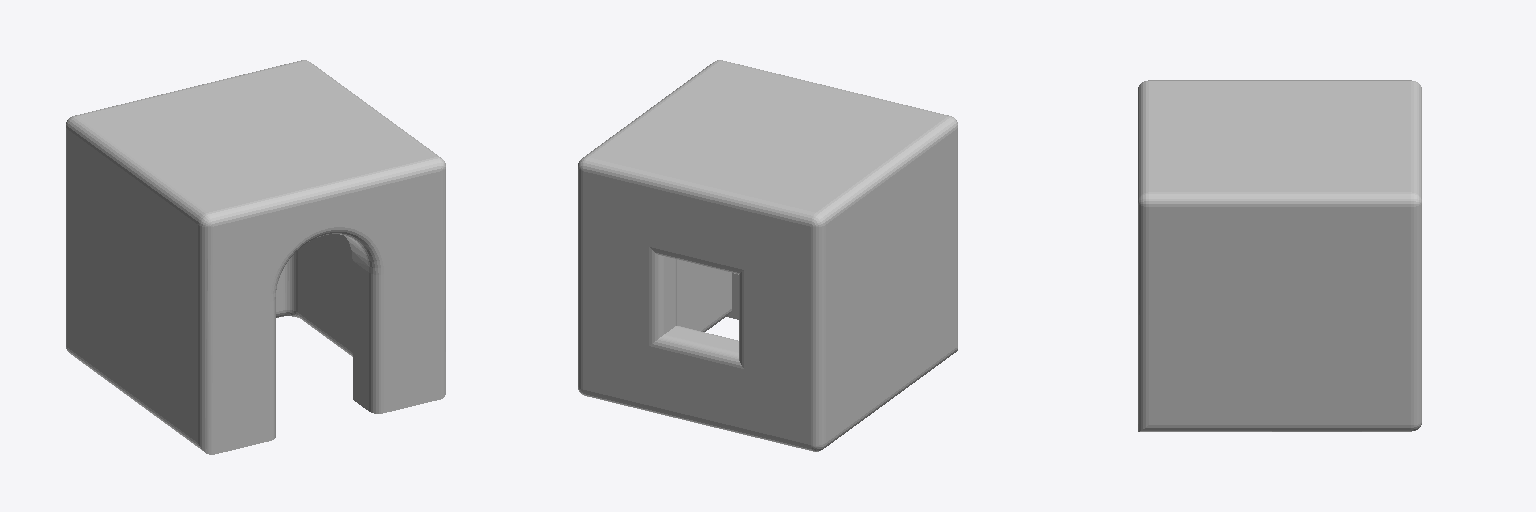
File: Bunker.obj
3 renders of one model, left to right at view 1: azimuth 30°, elevation 25°; view 2: azimuth 150°, elevation 25°; view 3: azimuth 270°, elevation 25°, orthographic.
Parts seen in each view (by area): view 1: Mtl; view 2: Mtl; view 3: Mtl.
Part boxes in pixels (left/top/right/bottom): Mtl: left=66, top=60, right=445, bottom=454; Mtl: left=578, top=60, right=957, bottom=451; Mtl: left=1138, top=80, right=1421, bottom=431.
Bounding box in the file's own units: 1.98 × 1.83 × 1.98.